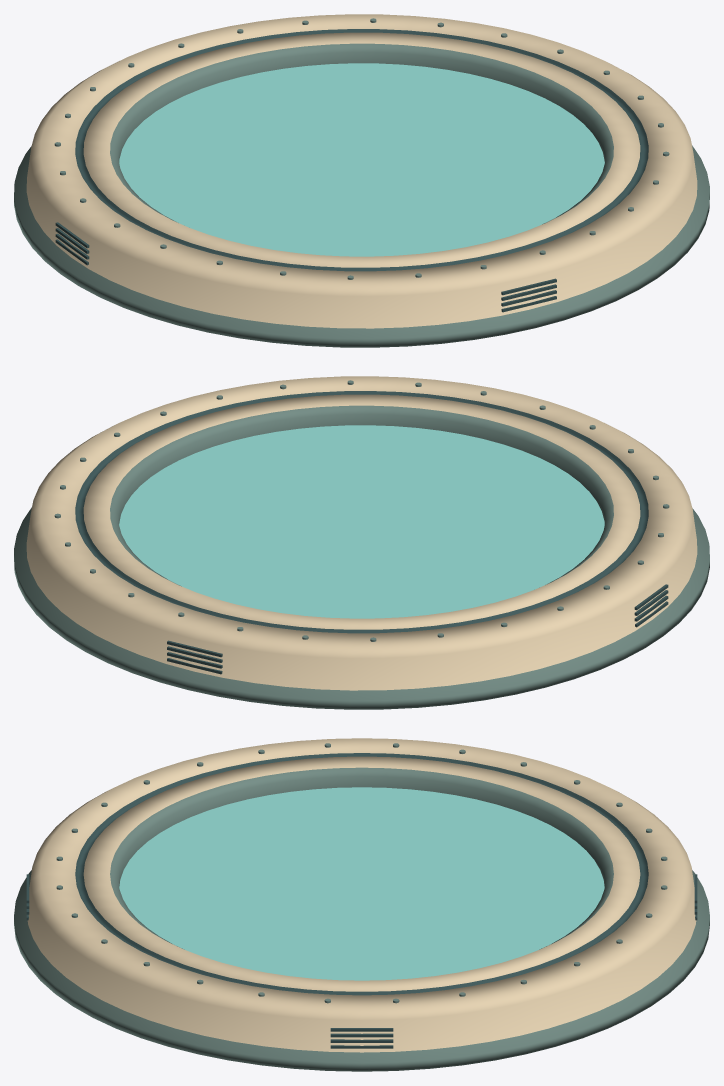
File: Pit.glb
3 views of the same model, one above another, from view 1: azimuth 30°, elevation 25°; view 2: azimuth 150°, elevation 25°; view 3: azimuth 270°, elevation 25° (orthographic).
Visible parts, largest first — view 1: Pit, Pit_Goo; view 2: Pit, Pit_Goo; view 3: Pit, Pit_Goo.
Part boxes in pixels (<box>): Pit: <box>14,14,709,347</box>; Pit_Goo: <box>119,63,604,256</box>; Pit: <box>14,376,709,709</box>; Pit_Goo: <box>119,425,604,618</box>; Pit: <box>14,738,709,1071</box>; Pit_Goo: <box>119,787,604,980</box>.
Bounding box in the file's own units: 10 × 0.83 × 10.
